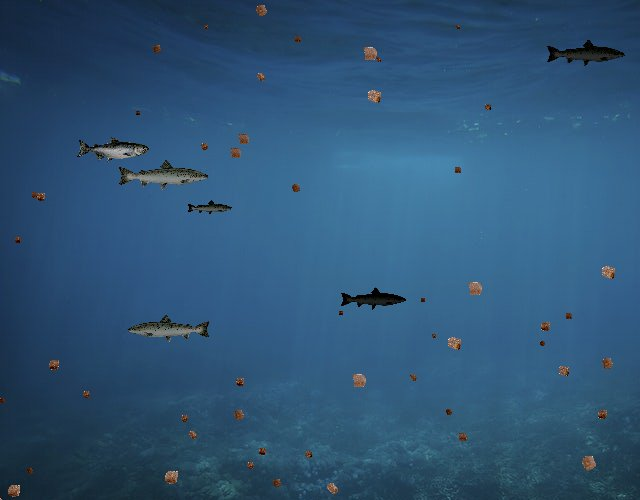Fish: (117, 159, 211, 193), (126, 313, 212, 344), (545, 38, 626, 67), (77, 137, 150, 163), (339, 287, 407, 311), (187, 199, 234, 216)
Pellet: (157, 463, 185, 491), (320, 476, 344, 500), (78, 386, 94, 402), (480, 100, 494, 114), (536, 337, 549, 350), (200, 22, 210, 32)
